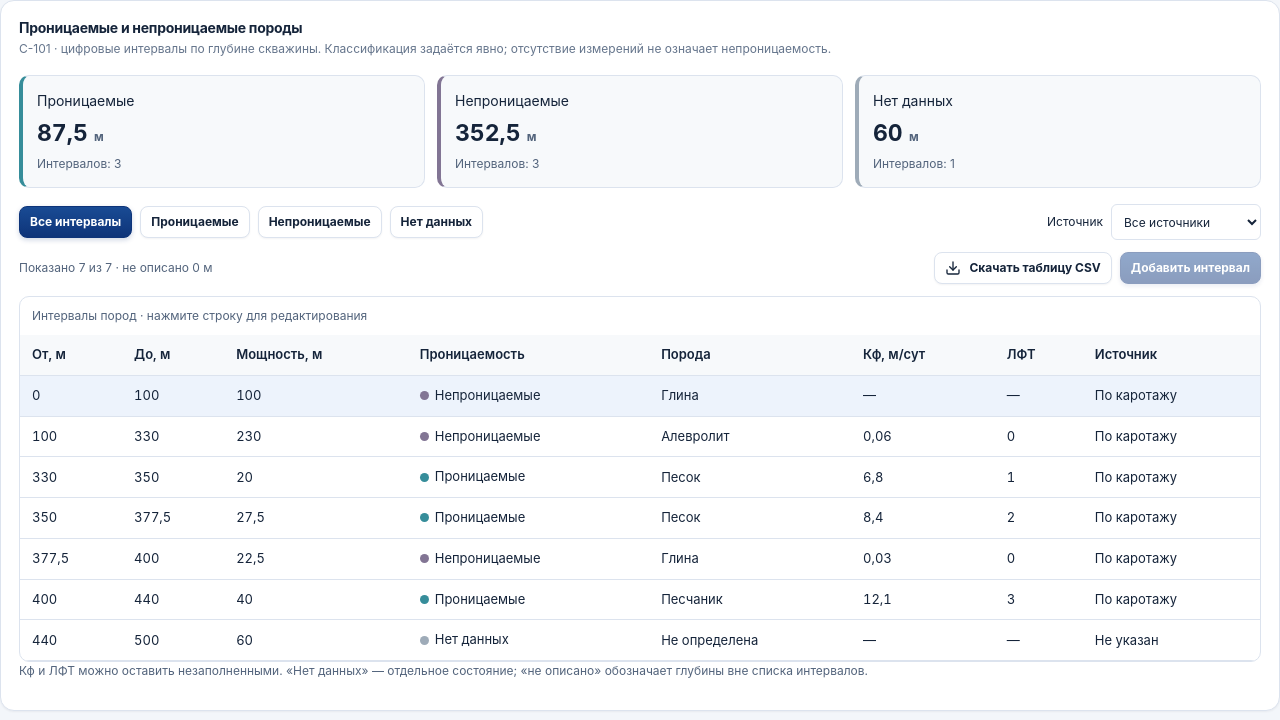
Scenario: permeability workspace › shows its own columns and filters instead of the AP editor
Expected: the heading "Проницаемые и непроницаемые породы" is shown, [19,19,302,36]
Click the button "Проницаемые" at (195, 222), box [140,206,250,238]
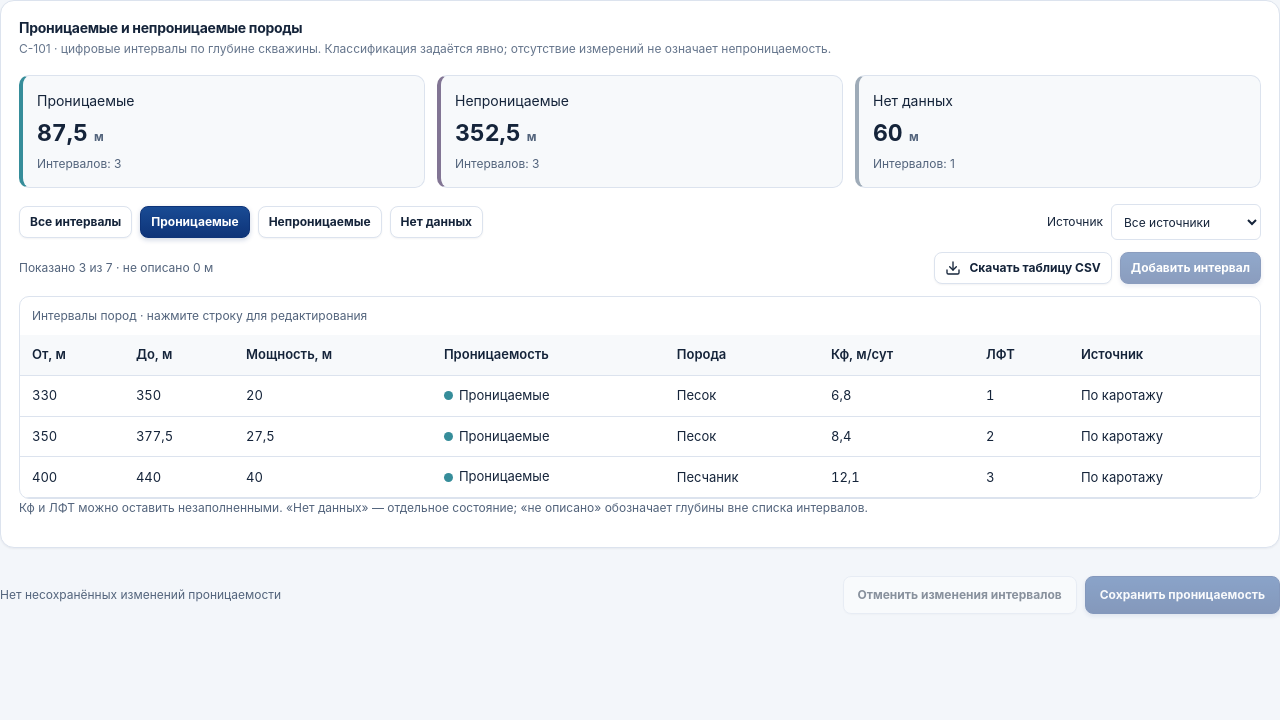
Result: the number of rows is 4 at [20,336,1260,376]; [20,376,1260,416]; [20,416,1260,457]; [20,457,1260,498]
Click the button "Нет данных" at (436, 222), box [390,206,483,238]
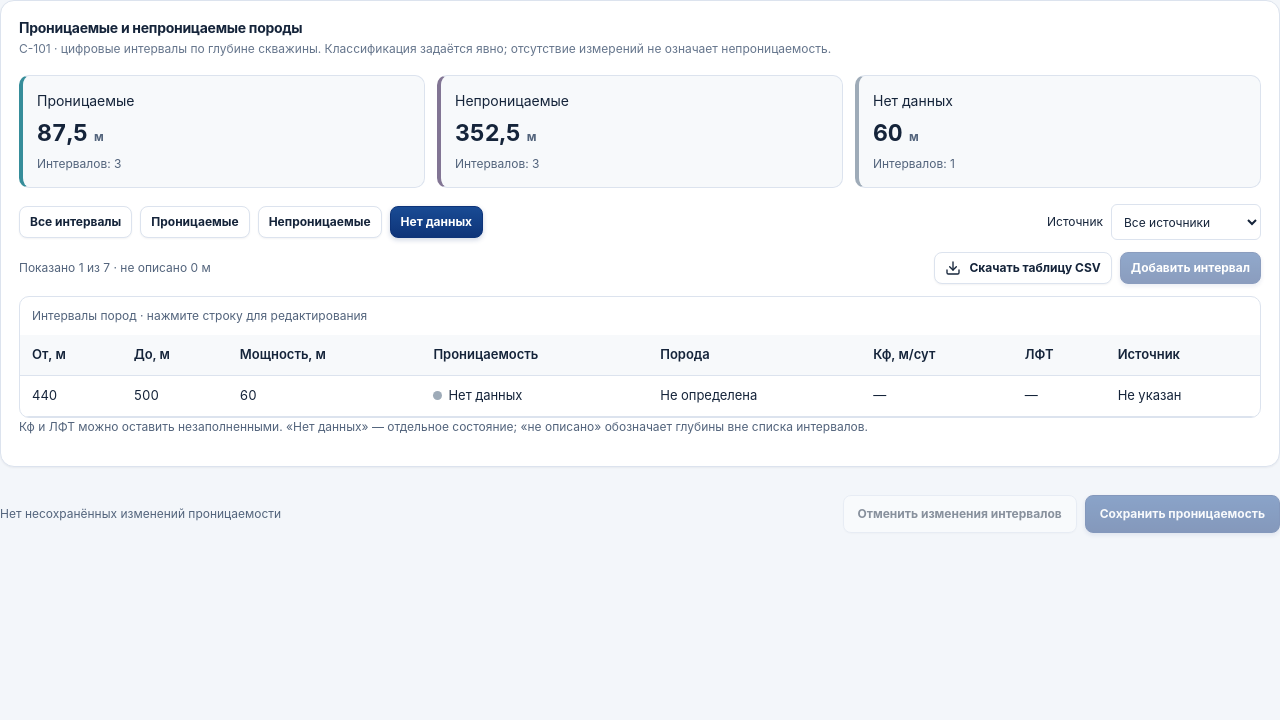
Result: the number of rows is 2 at [20,336,1260,376]; [20,376,1260,416]
